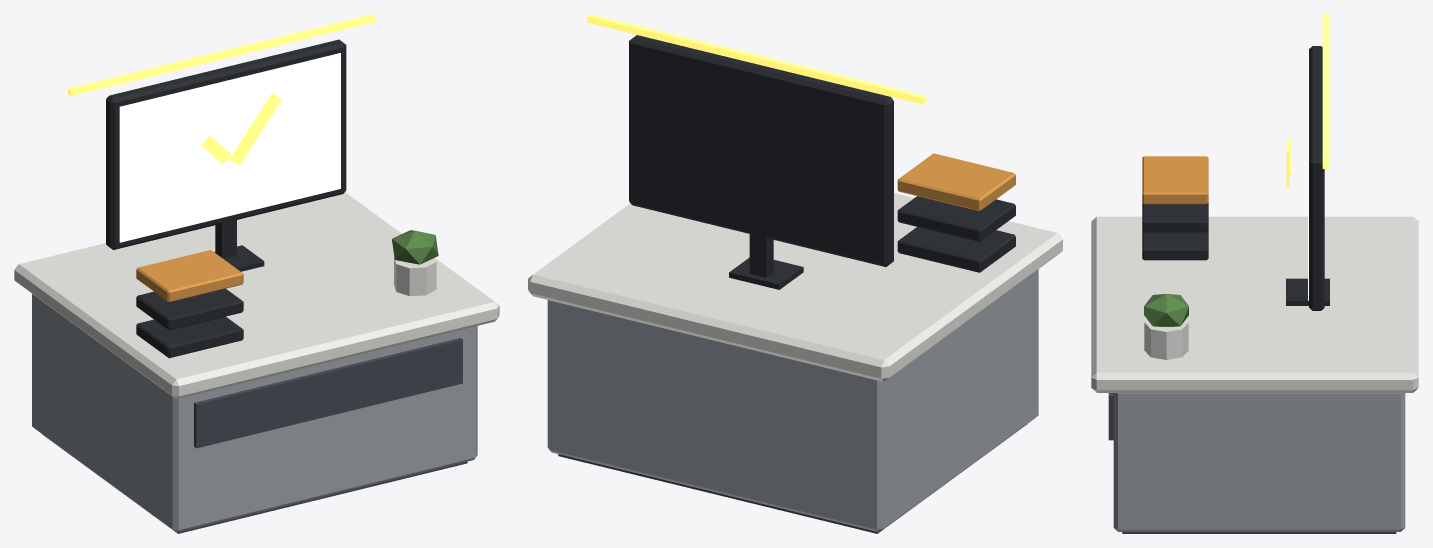
Rendered from autoreply_p0_4.glb.
3 renders of one model, left to right at view 1: azimuth 30°, elevation 25°; view 2: azimuth 150°, elevation 25°; view 3: azimuth 270°, elevation 25°, orthographic. The views are drawn at different scales.
Parts seen in each view (by area): view 1: autoreply_p0_4_mesh_Desk, autoreply_p0_4_mesh; view 2: autoreply_p0_4_mesh_Desk, autoreply_p0_4_mesh; view 3: autoreply_p0_4_mesh_Desk, autoreply_p0_4_mesh.
Boxes of the visible parts, <box> form: autoreply_p0_4_mesh_Desk: <box>14,192,499,533</box>; autoreply_p0_4_mesh: <box>68,14,438,358</box>; autoreply_p0_4_mesh_Desk: <box>528,193,1062,533</box>; autoreply_p0_4_mesh: <box>587,14,1015,289</box>; autoreply_p0_4_mesh_Desk: <box>1091,216,1418,533</box>; autoreply_p0_4_mesh: <box>1142,14,1329,359</box>.
Size of the model in its own units: 0.86 by 0.934 by 0.74.
